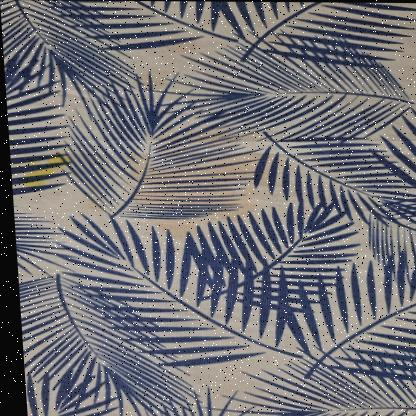spot: (103, 160, 255, 237), (135, 109, 271, 154), (8, 139, 78, 200)
